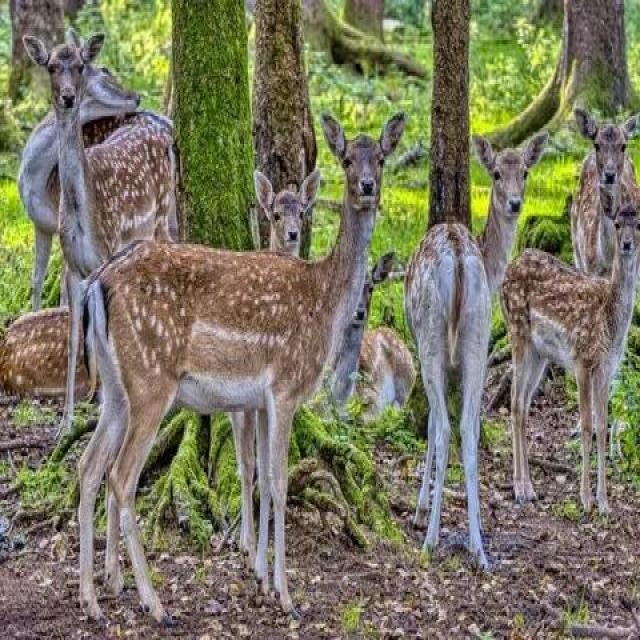deer: (50, 75, 433, 593)
